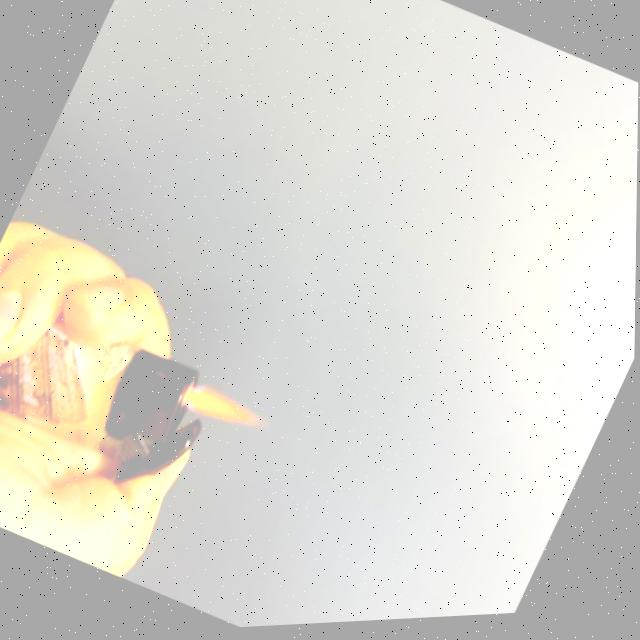Fire: (180, 379, 264, 444)
